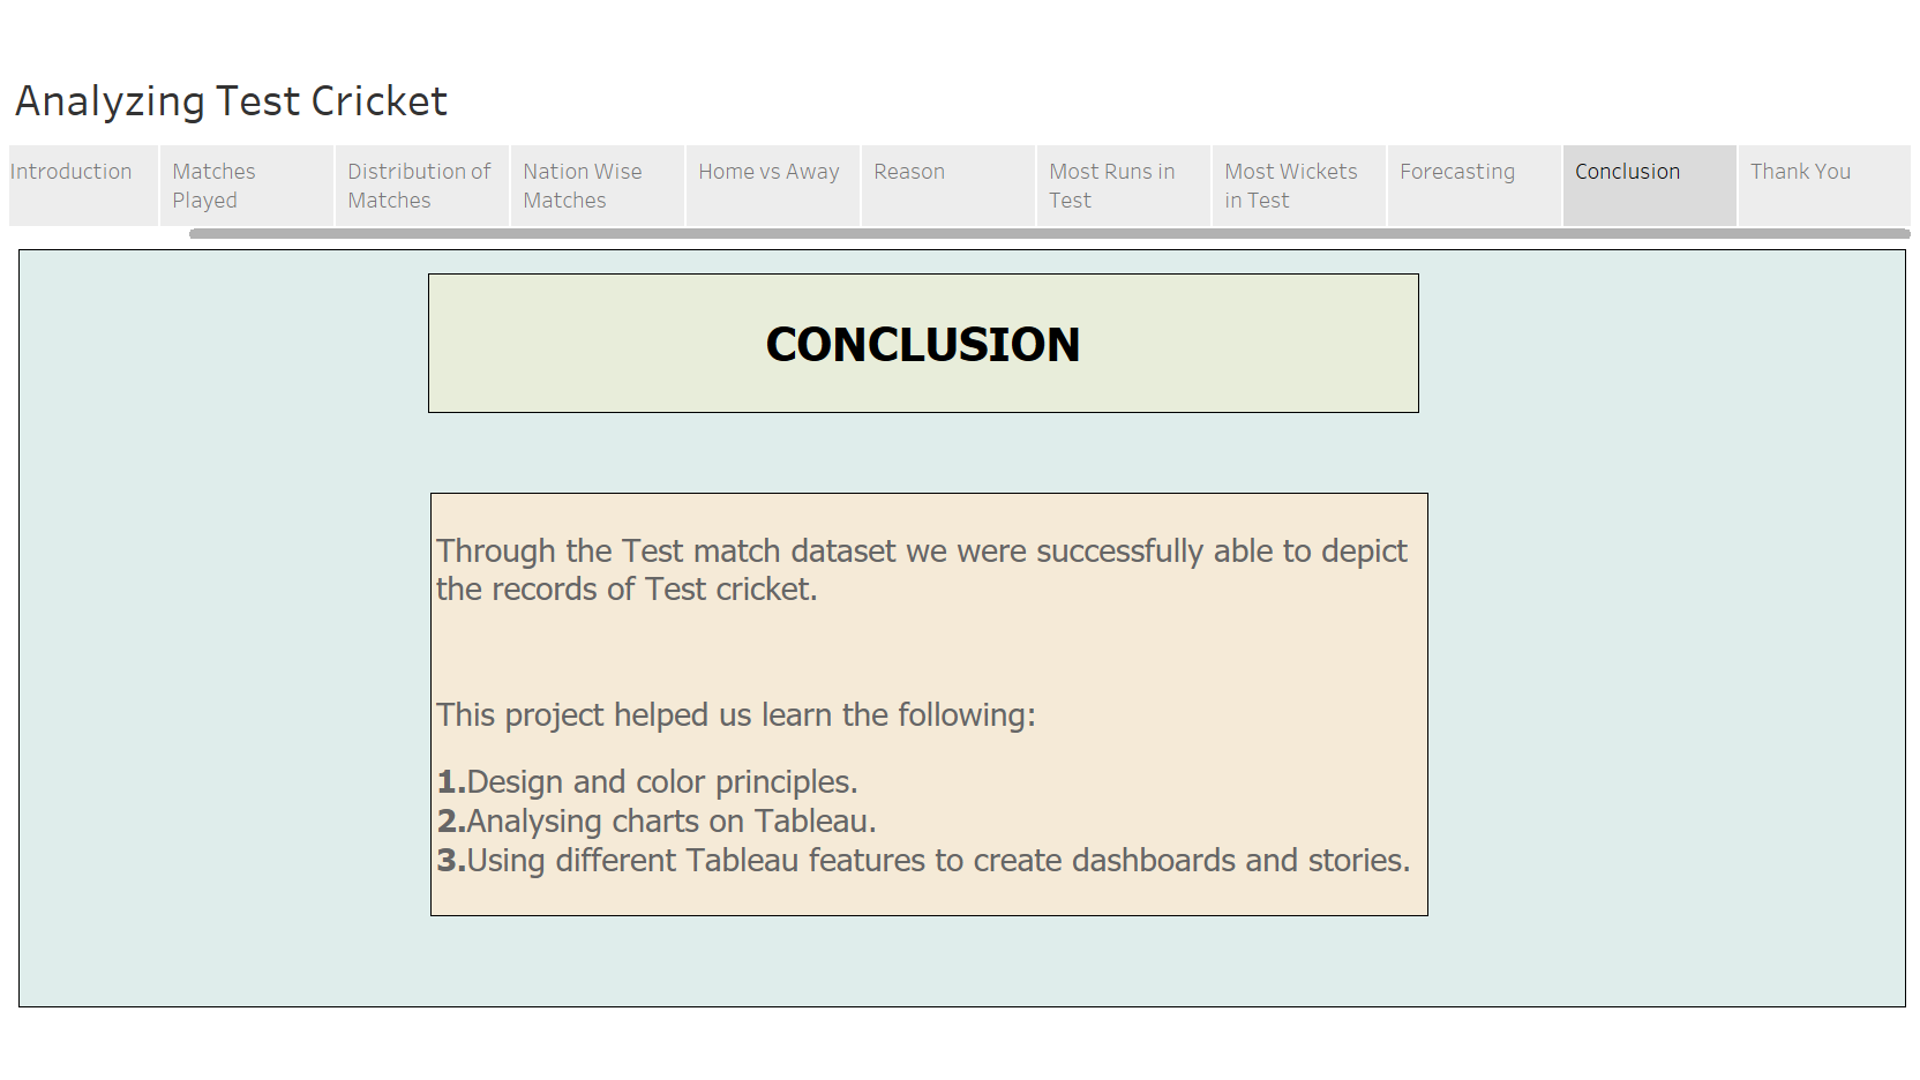

Layout of this report page (visuals, bound fields, positions):
{"tool":"tableau","page":{"name":"Dashboard 10","canvas":[1000,1000],"units":"permille","ordinal":1},"visuals":[{"type":"blank","box":[4.8,6,992.8,991.6]},{"type":"text","box":[220.6,37.4,521,183.1]},{"type":"text","box":[221.8,324.1,524.6,553]}]}

Visuals, with their boxes on the dashboard's canvas, which has no fixed pixel size, in thousandths of its width and height (x1, y1, x2, y2). These are canvas units, not pixel positions in the 1920x1080 screenshot, which may show the page scaled, cropped or inside an application window:
blank: box(5, 6, 998, 998)
text: box(221, 37, 742, 220)
text: box(222, 324, 746, 877)
